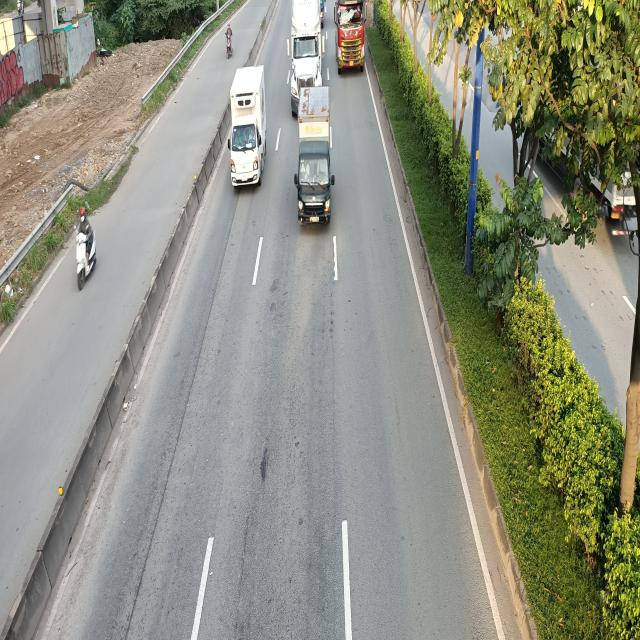container: (287, 0, 325, 113), (334, 1, 368, 76)
truck: (295, 87, 338, 227), (227, 68, 265, 191)
